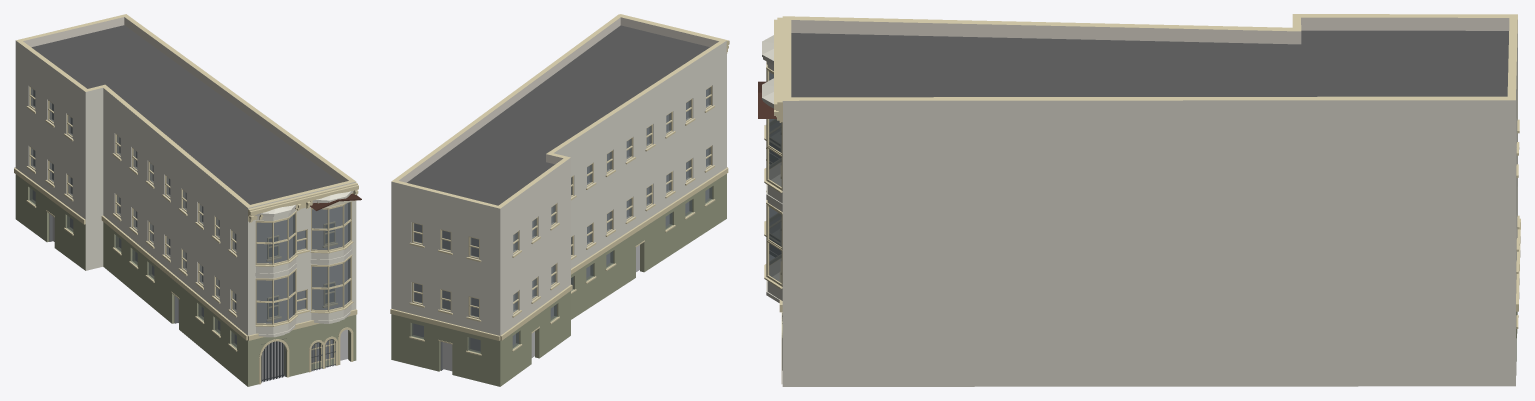
Rendered from exterior.glb.
The picture shows the model from 3 angles, left to right: view 1: azimuth 30°, elevation 25°; view 2: azimuth 150°, elevation 25°; view 3: azimuth 270°, elevation 25°; orthographic projection. The views are drawn at different scales.
Visible parts, largest first — view 1: shell, roof, bay-glazing-hyb, shadow-proxy, trim, glazing, bay-windows-hyb, frames, storefront, hyC-arches-5, hand-ornament; view 2: shell, roof, glazing, trim, frames, shadow-proxy; view 3: shell, roof, bay-glazing-hyb, bay-windows-hyb, trim.
Boxes of the visible parts, box(x1,y1,x2,y2) form: shell: box(15, 14, 356, 386); roof: box(31, 25, 340, 204); bay-glazing-hyb: box(255, 202, 353, 326); shadow-proxy: box(33, 90, 347, 379); trim: box(14, 106, 358, 351); glazing: box(30, 88, 333, 362); bay-windows-hyb: box(255, 191, 353, 337); frames: box(29, 86, 335, 318); storefront: box(46, 210, 340, 382); hyC-arches-5: box(259, 327, 353, 384); hand-ornament: box(310, 193, 361, 210); shell: box(391, 14, 726, 386); roof: box(407, 25, 709, 205); glazing: box(411, 87, 711, 352); trim: box(390, 14, 729, 355); frames: box(412, 86, 712, 319); shadow-proxy: box(413, 89, 708, 371); shell: box(782, 14, 1517, 386); roof: box(791, 30, 1508, 97); bay-glazing-hyb: box(764, 61, 782, 289); bay-windows-hyb: box(762, 35, 782, 302); trim: box(774, 17, 1520, 328).
Size of the model in its own units: 8.44 by 12.78 by 30.88.
